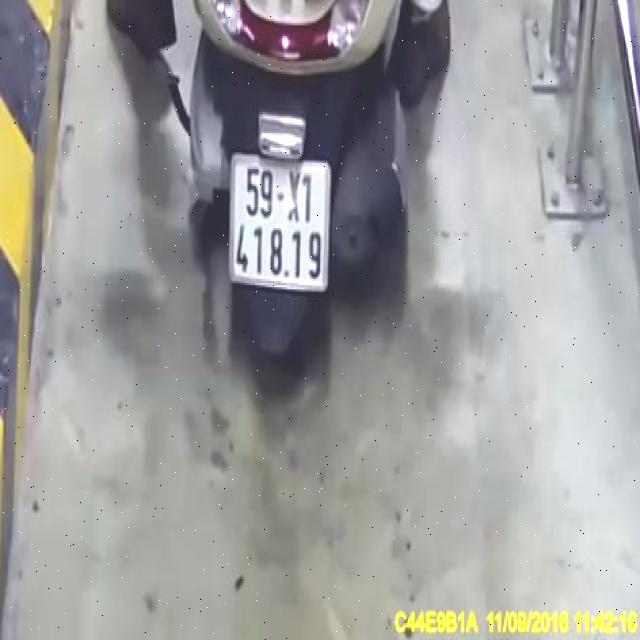1: (290, 230, 306, 282), (251, 225, 265, 279), (301, 170, 312, 227)
4: (232, 222, 250, 276)
5: (244, 165, 260, 219)
8: (268, 226, 284, 280)
9: (305, 228, 322, 282), (260, 166, 274, 219)
X: (286, 167, 302, 227)
